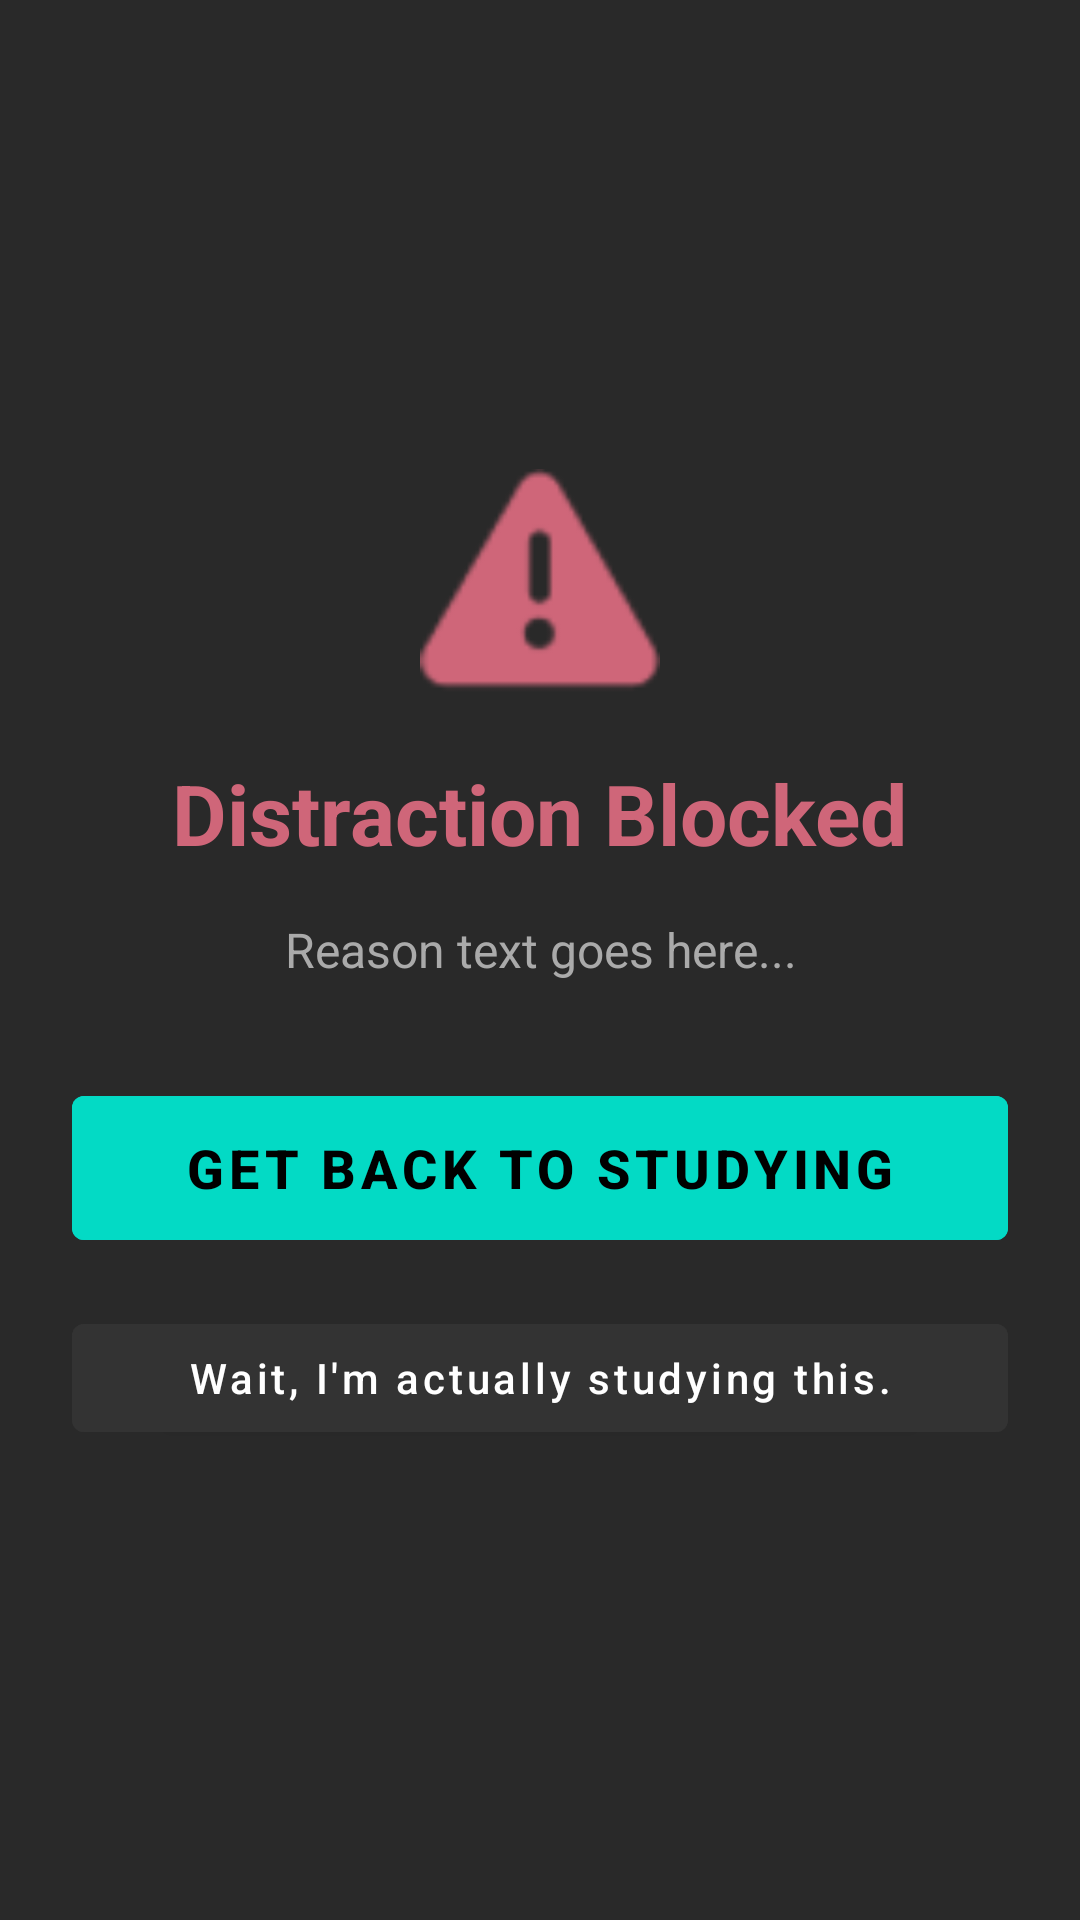

Locate icon controls on the screen. Image size 1080x1920, boxes as box=[x1, y1, x2, y2].
alert: box=[420, 469, 660, 688]
